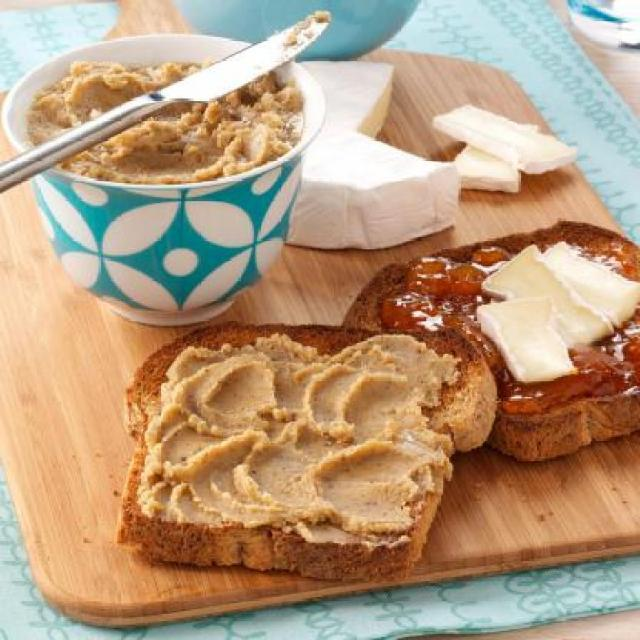Spread: (166, 356, 414, 518), (432, 259, 640, 390)
